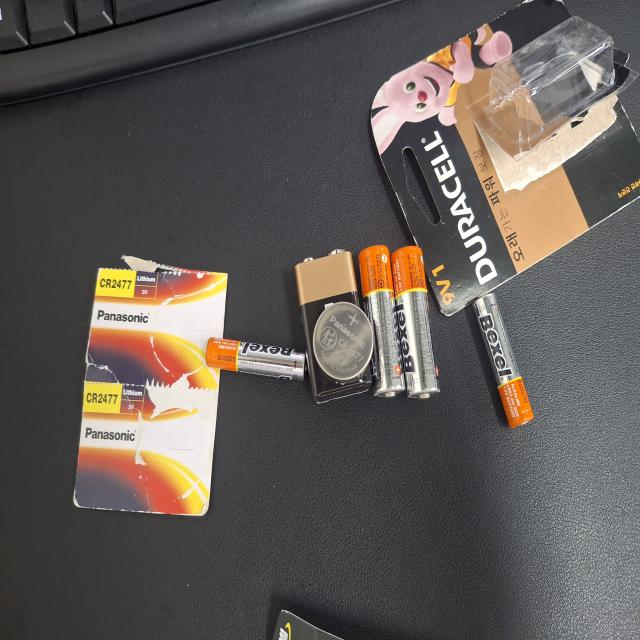9V: (178, 393, 292, 496)
AA: (180, 521, 296, 586), (182, 478, 296, 541)
AAA: (194, 274, 227, 408)
COIN: (194, 416, 253, 498)
